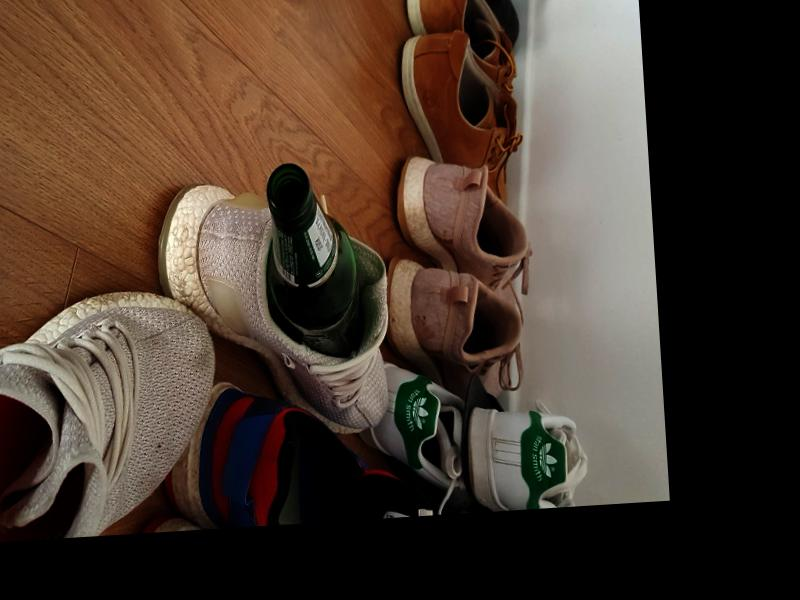Beer: (263, 158, 366, 359)
